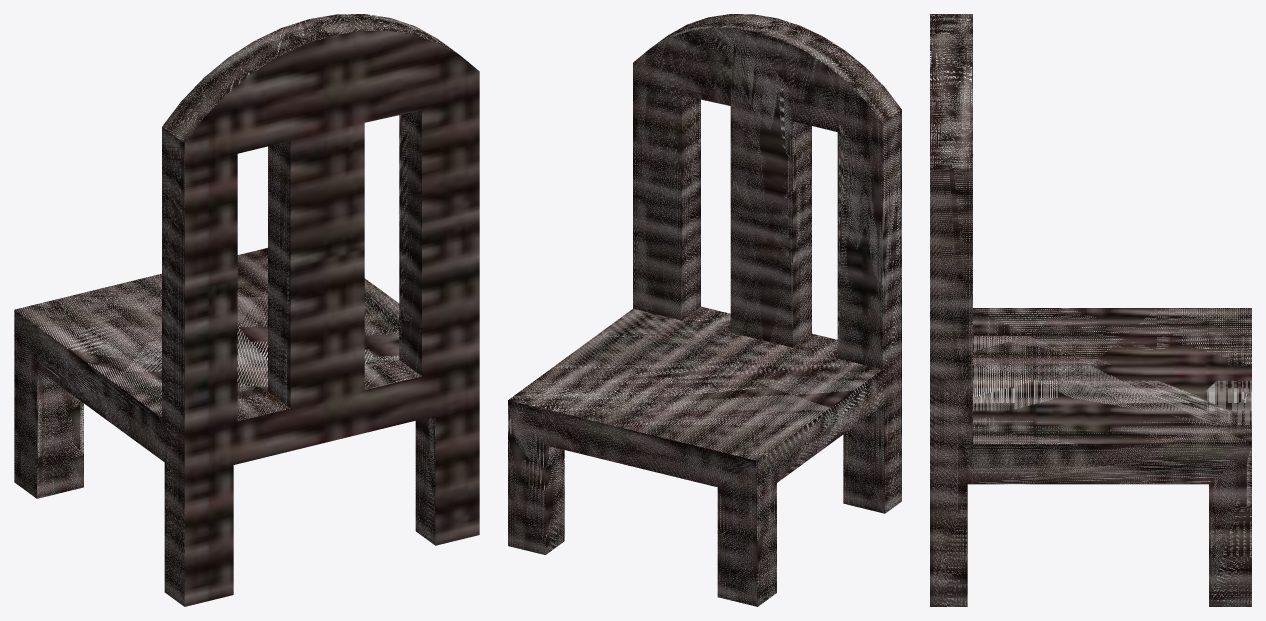
3 views of the same model, side by side, from view 1: azimuth 30°, elevation 25°; view 2: azimuth 150°, elevation 25°; view 3: azimuth 270°, elevation 25° (orthographic). The views are drawn at different scales.
Visible parts, largest first — view 1: mesh1_mesh1-geometry; view 2: mesh1_mesh1-geometry; view 3: mesh1_mesh1-geometry.
Boxes of the visible parts, x1,y1,x2,y2 form: mesh1_mesh1-geometry: (14,14,479,606); mesh1_mesh1-geometry: (508,14,901,606); mesh1_mesh1-geometry: (930,14,1251,606).
Size of the model in its own units: 0.447 by 0.7748 by 0.447.
